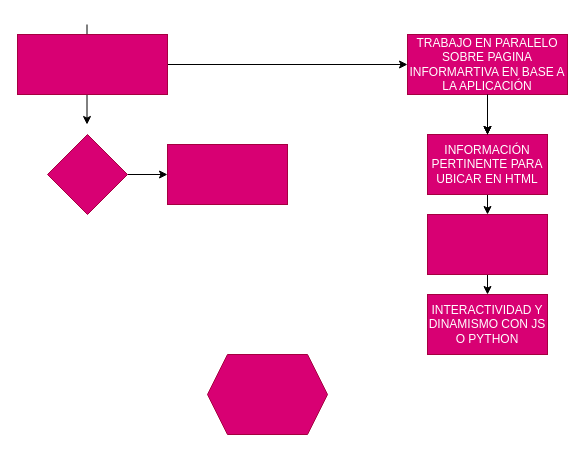
Some shapes in this 585 by 452 pixel diagram are drawn without their labels. Here are the shapes that lost their labels. From the top down, the centre of each, then its label:
At (x=92, y=64): "Inicio de interfaz que tenga conexión con una base de datos en SQL".
At (x=487, y=244): "IMPLEMENTACIÓN DE ESTILOS CON CSS".
